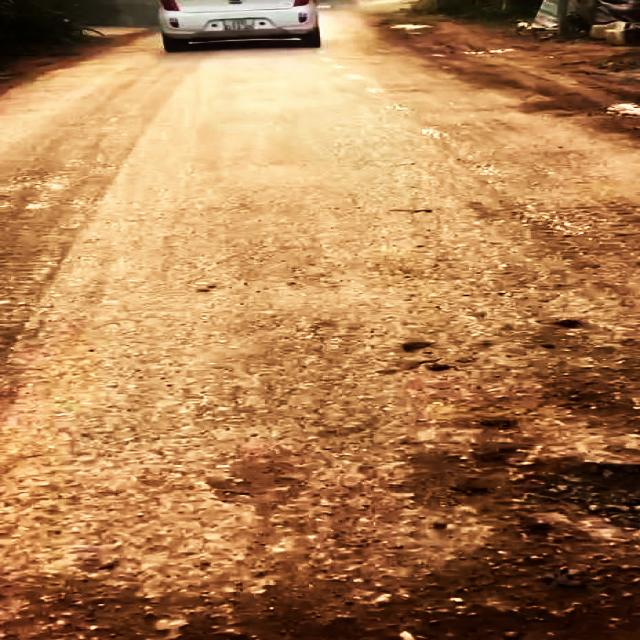pothole: (307, 431, 640, 640)
